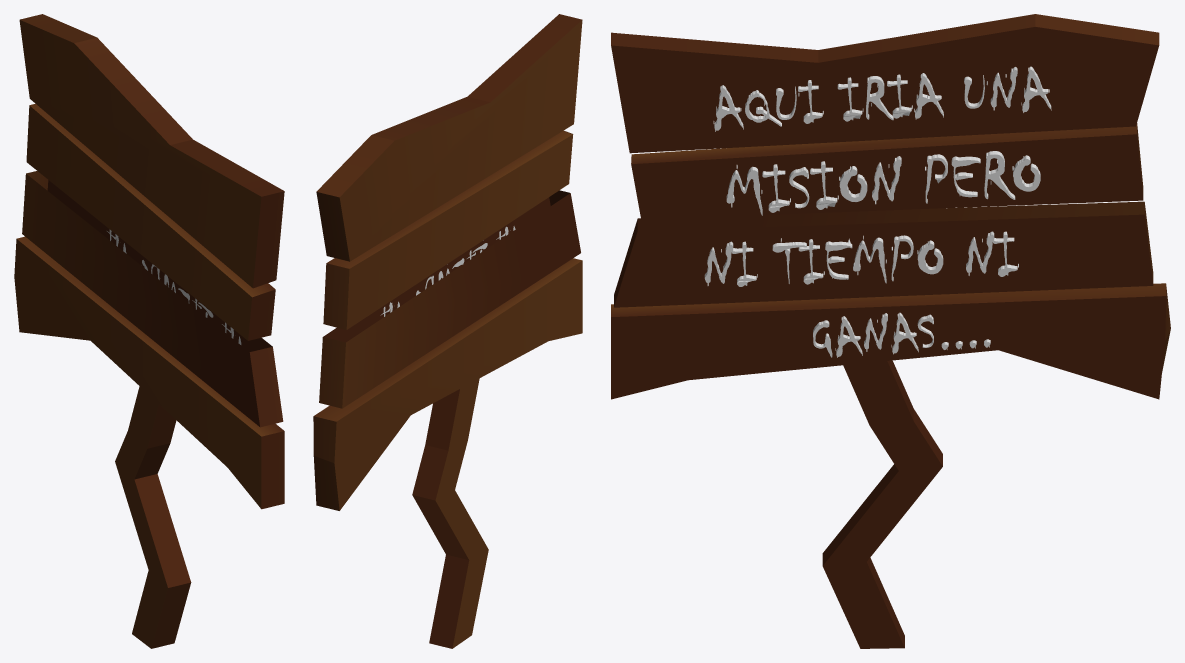
The model's file is cartelFuente.fbx.
3 views of the same model, side by side, from view 1: azimuth 30°, elevation 25°; view 2: azimuth 150°, elevation 25°; view 3: azimuth 270°, elevation 25° (orthographic). The views are drawn at different scales.
Visible parts, largest first — view 1: Cube, Texto.001; view 2: Cube, Texto.001; view 3: Cube, Texto.002, Texto, Texto.001, Texto.003.
Boxes of the visible parts, left/top/right/bottom form: Cube: left=14, top=14, right=284, bottom=648; Texto.001: left=107, top=229, right=241, bottom=344; Cube: left=313, top=14, right=582, bottom=648; Texto.001: left=380, top=226, right=515, bottom=316; Cube: left=611, top=14, right=1170, bottom=648; Texto.002: left=726, top=151, right=1040, bottom=215; Texto: left=713, top=66, right=1051, bottom=131; Texto.001: left=704, top=231, right=1018, bottom=286; Texto.003: left=813, top=312, right=990, bottom=357.
Bounding box in the file's own units: 19.67 × 351 × 287.
